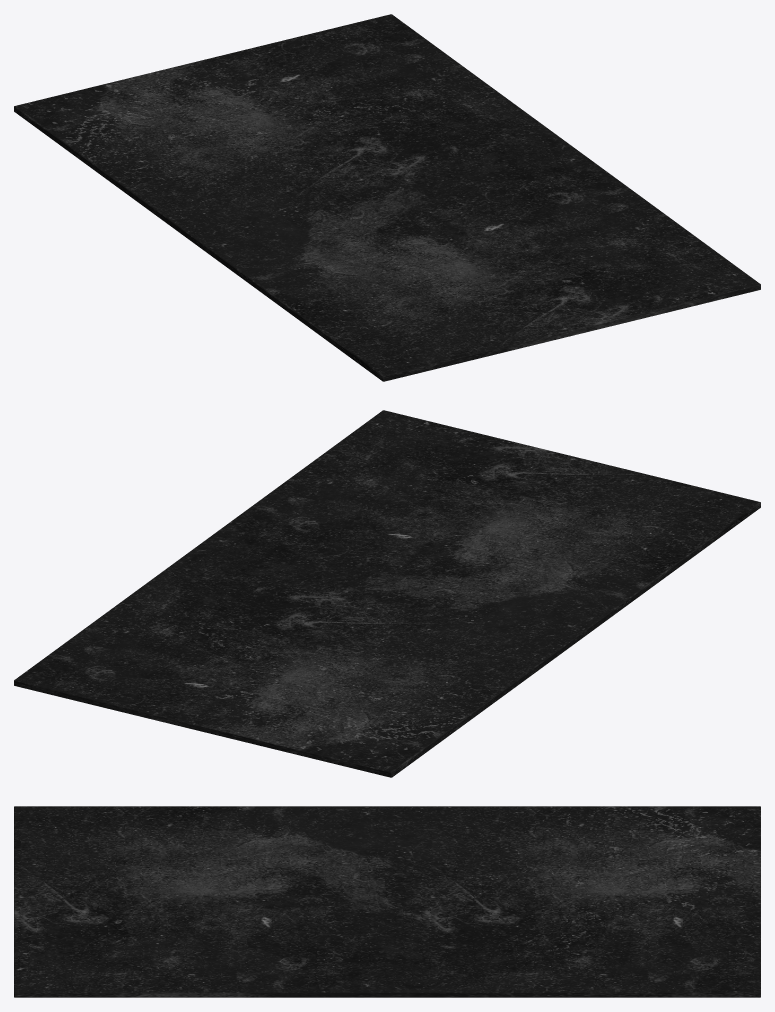
The model's file is SM_Black_Board_Left_2.fbx.
3 views of the same model, one above another, from view 1: azimuth 30°, elevation 25°; view 2: azimuth 150°, elevation 25°; view 3: azimuth 270°, elevation 25° (orthographic).
Parts seen in each view (by area): view 1: SM_Black_Board_Left_2_LOD0; view 2: SM_Black_Board_Left_2_LOD0; view 3: SM_Black_Board_Left_2_LOD0.
Part boxes in pixels (x1,y1,x2,y2): SM_Black_Board_Left_2_LOD0: [14, 14, 760, 381]; SM_Black_Board_Left_2_LOD0: [14, 410, 760, 777]; SM_Black_Board_Left_2_LOD0: [14, 806, 760, 997].
Size of the model in its own units: 76.73 by 130 by 1.13.
1 material, 1 textured.
